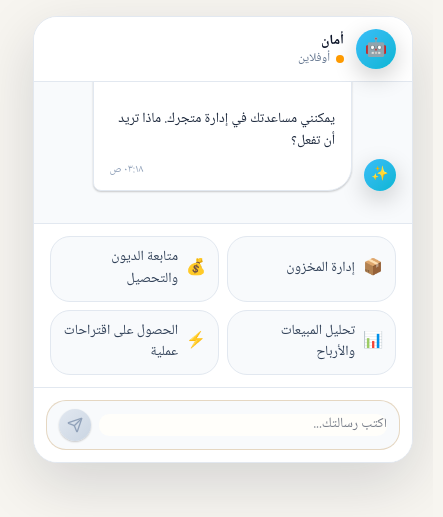
Test: UnifiedAIChat offline fallback › uses local store-aware fallback responses when offline
(page scrolled)
Type "ما الذي يحدث الآن؟" into the field with placeholder "اكتب رسالتك...".
click(243, 425); type("ما الذي يحدث الآن؟")  # box x1=99 y1=414 x2=387 y2=436
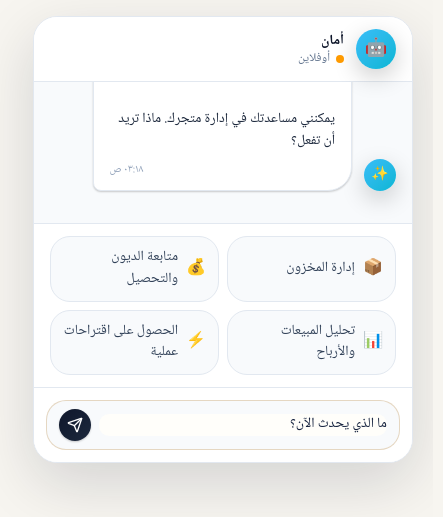
Click the button named "إرسال".
click(75, 425)  # box x1=59 y1=409 x2=91 y2=441
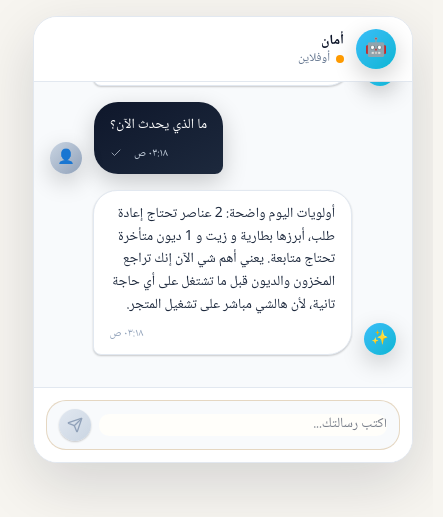
Expected: the text "أولويات اليوم واضحة" is shown, x1=112 y1=202 x2=335 y2=317
